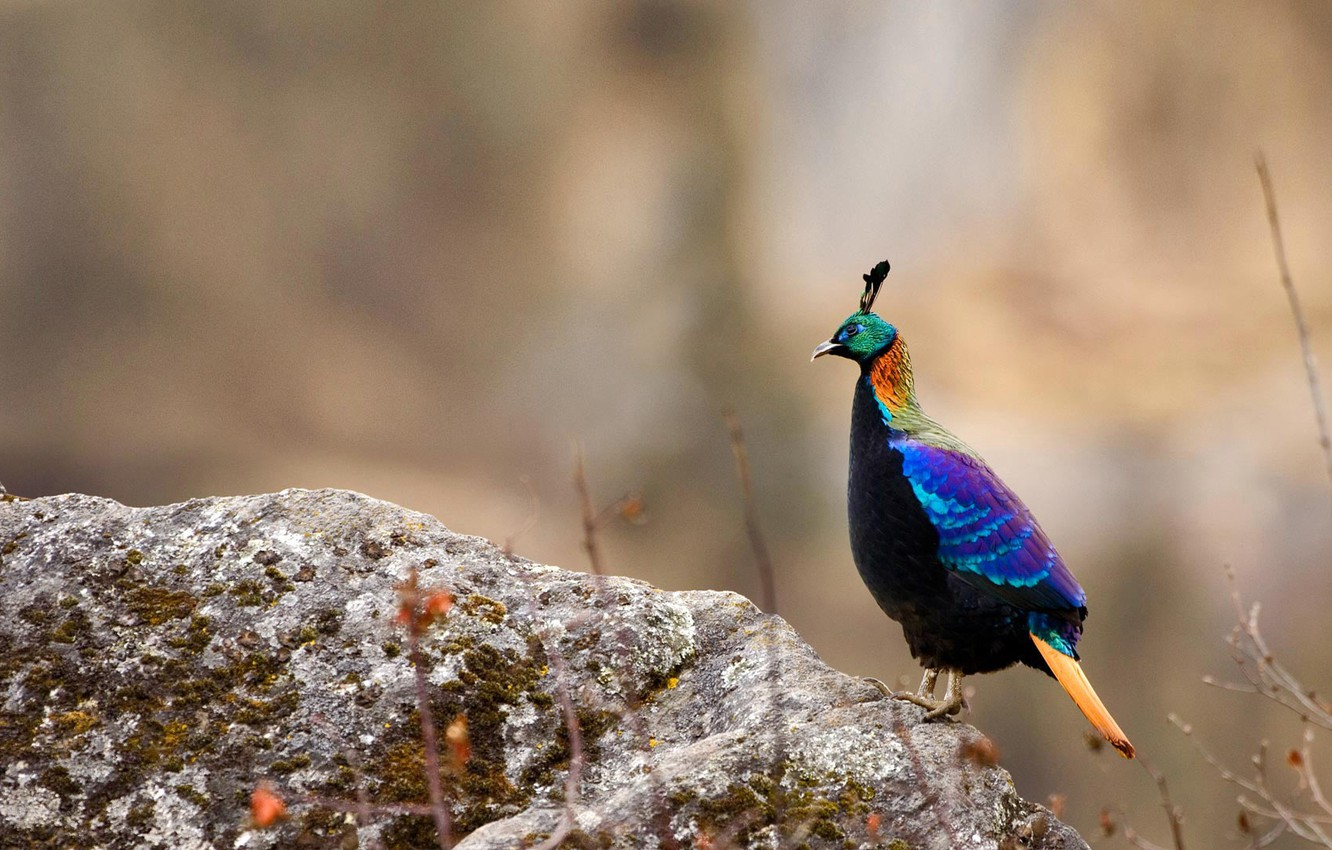bird: (792, 237, 1155, 773)
